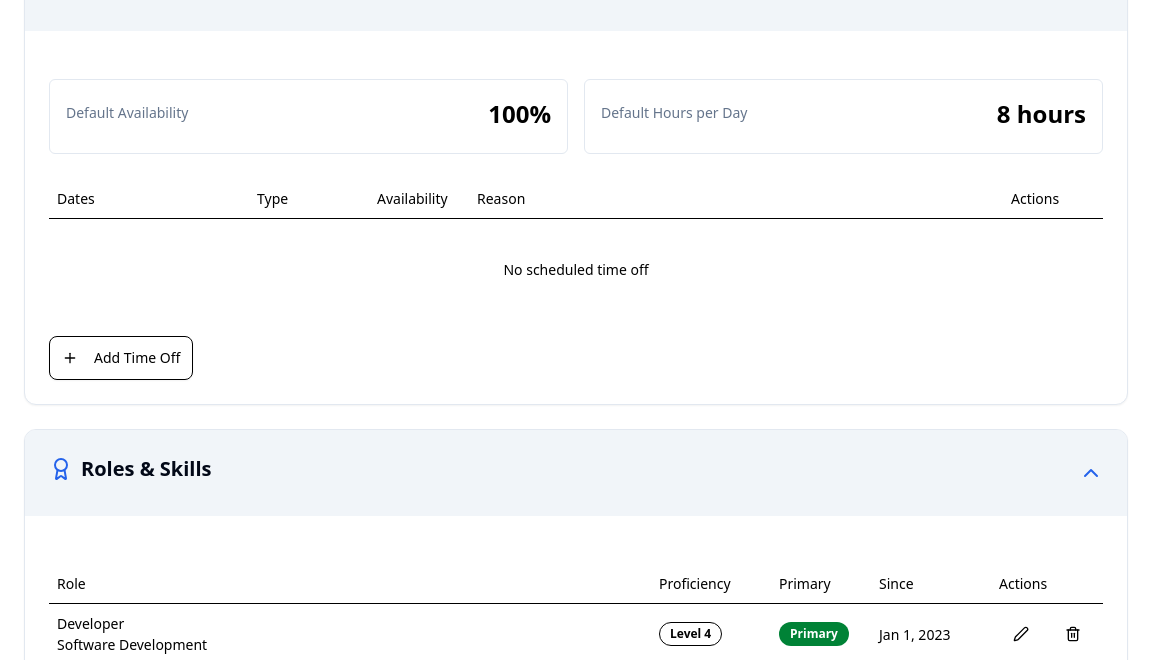
Test: PersonDetails › Time Off Management › opens add time off form
(page scrolled)
Click the button "Add Time Off". click: (121,358)
box: [49,336,193,380]
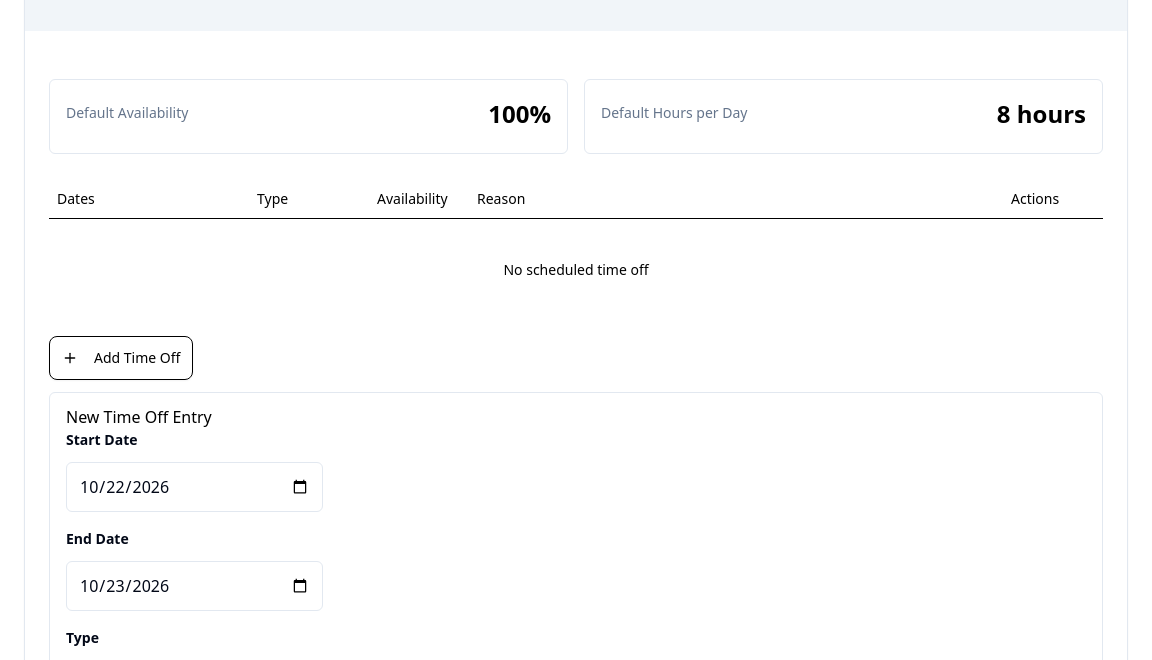
expect the heading "New Time Off Entry" is shown: met, box [66,406,212,428]
